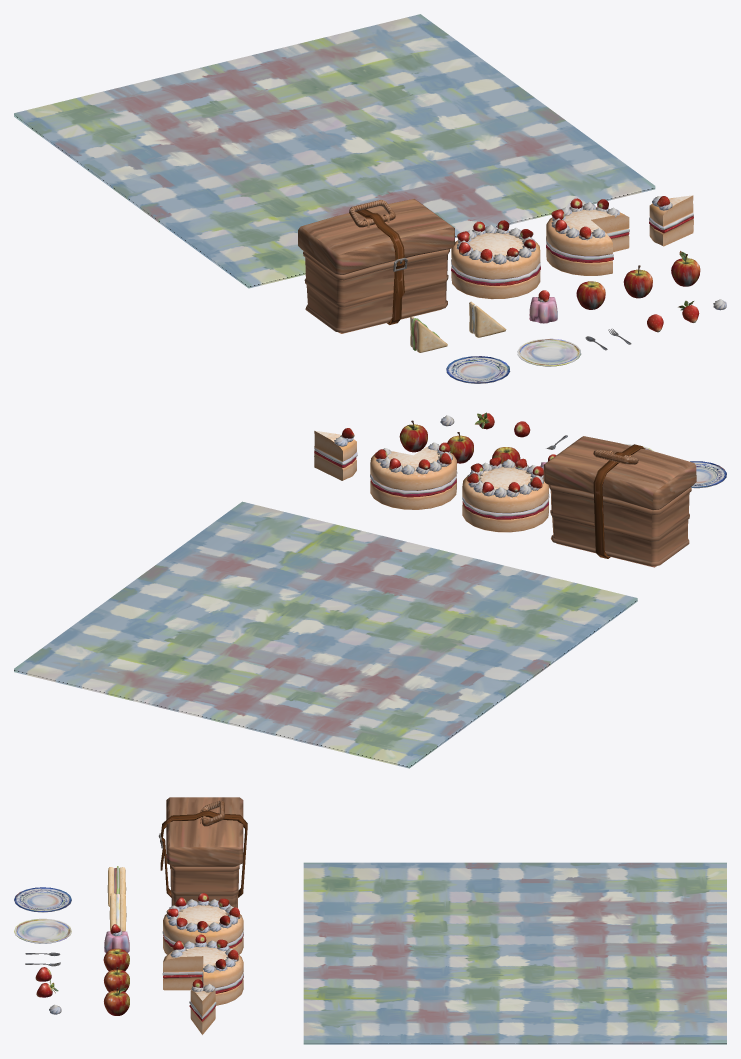
The model's file is stylised-picnic-prop-set-041e1e.glb.
The picture shows the model from 3 angles, top to bottom: view 1: azimuth 30°, elevation 25°; view 2: azimuth 150°, elevation 25°; view 3: azimuth 270°, elevation 25°; orthographic projection. The views are drawn at different scales.
Parts seen in each view (by area): view 1: PropMesh; view 2: PropMesh; view 3: PropMesh.
Part boxes in pixels (left/top/right/bottom): PropMesh: left=14, top=14, right=726, bottom=383; PropMesh: left=14, top=412, right=726, bottom=768; PropMesh: left=14, top=797, right=726, bottom=1044.
Bounding box in the file's own units: 1.44 × 0.35 × 2.43.
Materials: 5 (5 with a texture image).
